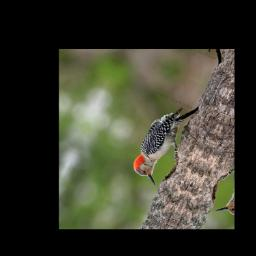Woodpecker: (122, 86, 204, 191)
